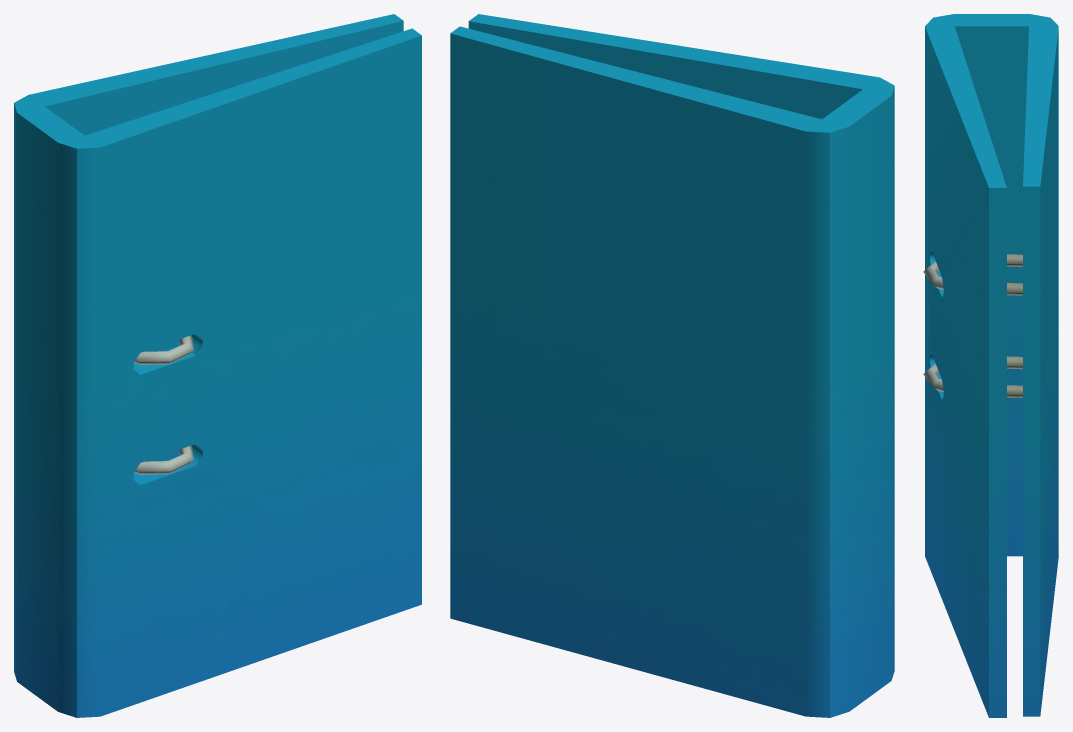
The model's file is SM_Dossier_1_02.fbx.
3 views of the same model, side by side, from view 1: azimuth 30°, elevation 25°; view 2: azimuth 150°, elevation 25°; view 3: azimuth 270°, elevation 25° (orthographic). The views are drawn at different scales.
Parts seen in each view (by area): view 1: SM_Dossier_1_02; view 2: SM_Dossier_1_02; view 3: SM_Dossier_1_02.
Boxes of the visible parts, x1,y1,x2,y2 form: SM_Dossier_1_02: (14, 14, 421, 717); SM_Dossier_1_02: (450, 14, 894, 717); SM_Dossier_1_02: (923, 14, 1058, 717).
Bounding box in the file's own units: 24.47 × 34.84 × 8.06.
